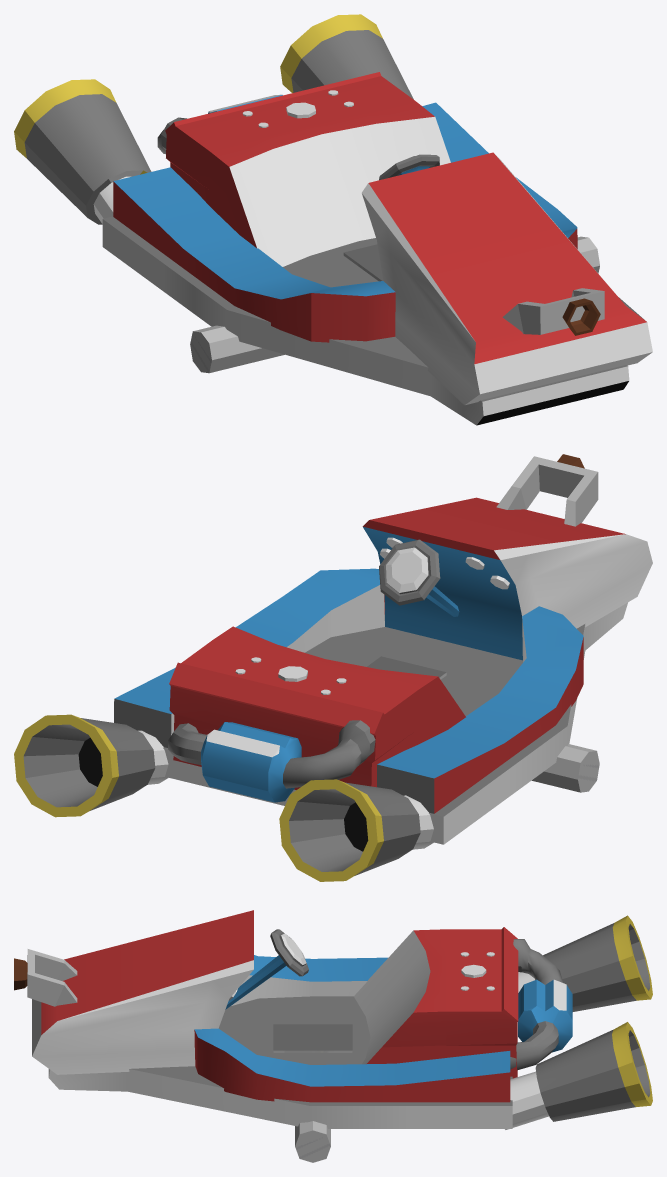
The model's file is Go_Kart 1.fbx.
3 renders of one model, top to bottom at view 1: azimuth 30°, elevation 25°; view 2: azimuth 150°, elevation 25°; view 3: azimuth 270°, elevation 25°, orthographic. The views are drawn at different scales.
Visible parts, largest first — view 1: polySurface48; view 2: polySurface48; view 3: polySurface48.
Part boxes in pixels (<box>): polySurface48: <box>14,14,652,425</box>; polySurface48: <box>14,454,652,881</box>; polySurface48: <box>14,910,652,1162</box>.
Bounding box in the file's own units: 131 × 63.36 × 229.
